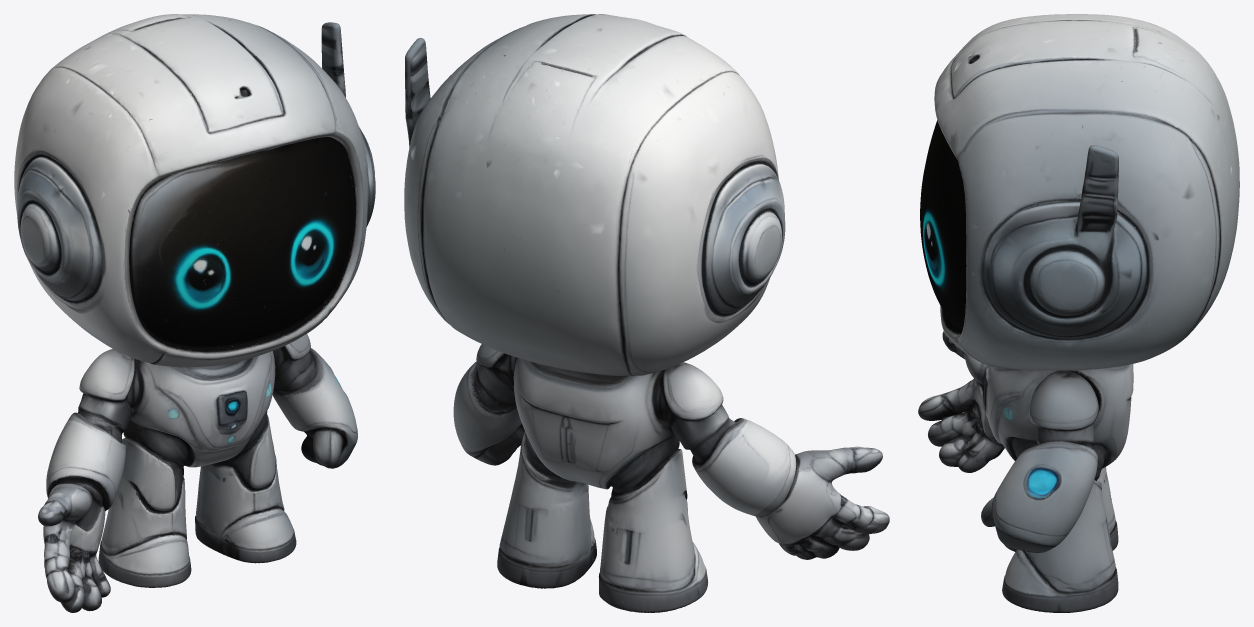
File: robot_bas-v1.glb
3 views of the same model, side by side, from view 1: azimuth 30°, elevation 25°; view 2: azimuth 150°, elevation 25°; view 3: azimuth 270°, elevation 25° (orthographic). The views are drawn at different scales.
Visible parts, largest first — view 1: geometry_0; view 2: geometry_0; view 3: geometry_0.
Boxes of the visible parts, box(x1,y1,x2,y2) form: geometry_0: box(14, 14, 375, 612); geometry_0: box(404, 14, 889, 612); geometry_0: box(918, 14, 1239, 612).
Bounding box in the file's own units: 0.772 × 1 × 0.5482.
1 material, 1 textured.
